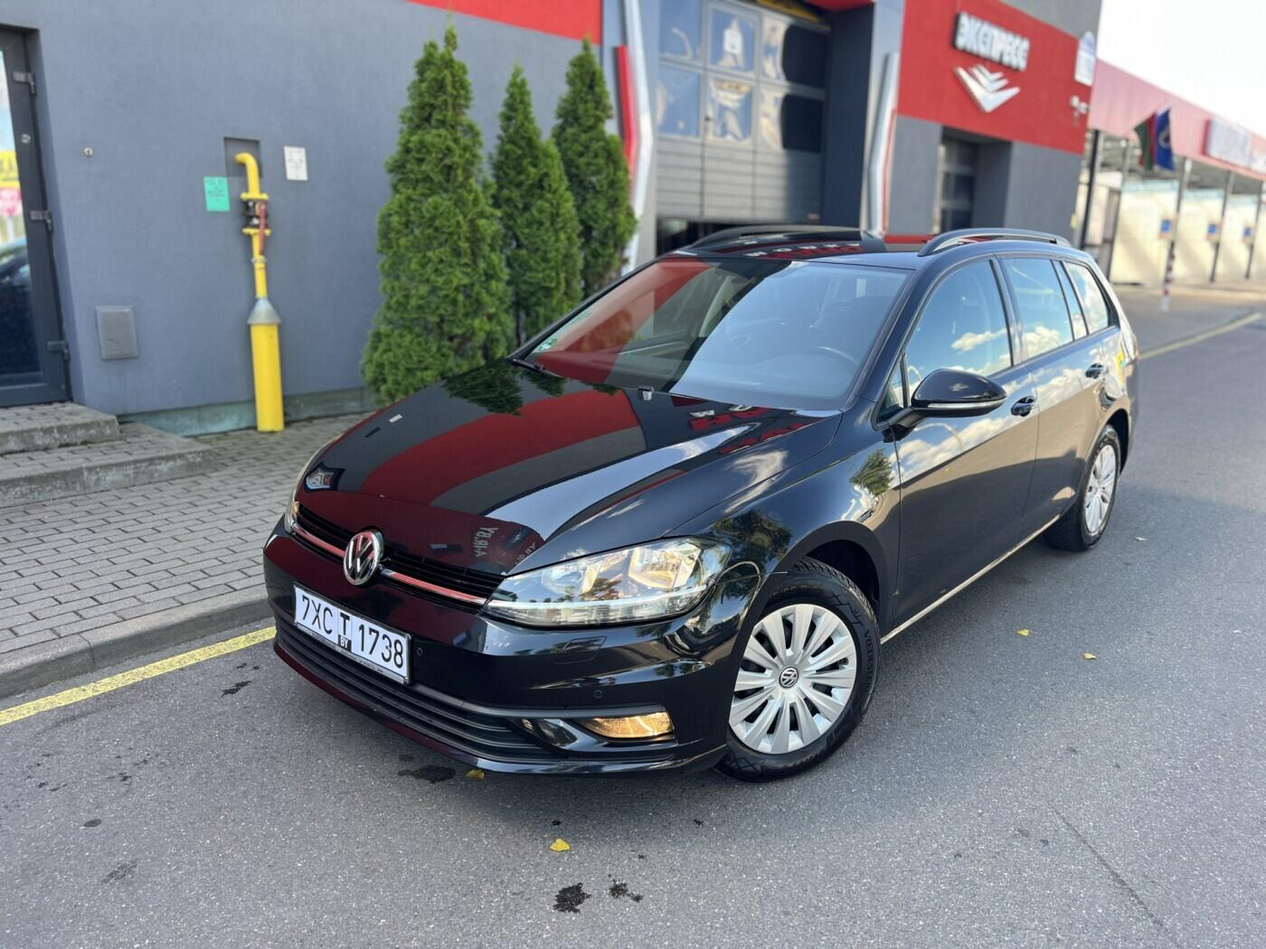Golf_2017-2021: (261, 227, 1143, 781)
